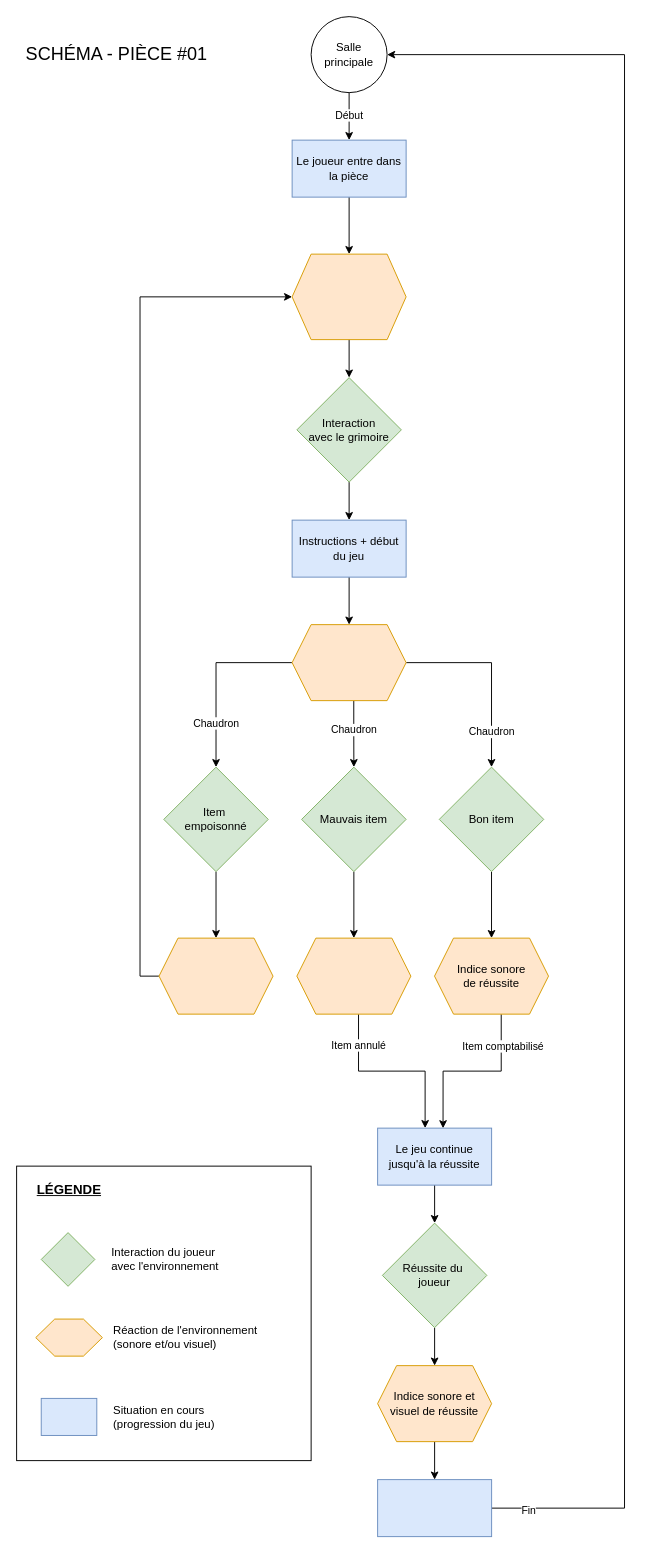
Some shapes in this 649 by 1553 pixel diagram are drawn without their labels. Each missing label, with the box of its shape:
Indice sonore d'erreur: (296, 937, 411, 1014)
Le grimoire s'illumine quand le joueur s'en approche: (291, 253, 406, 340)
Le joueur obtient la clé pour poursuivre l'aventure: (377, 1479, 492, 1537)
Les items et le chaudron s'illuminent: (291, 624, 406, 701)
Échec - Le joueur doit recommencer: (158, 937, 273, 1014)
